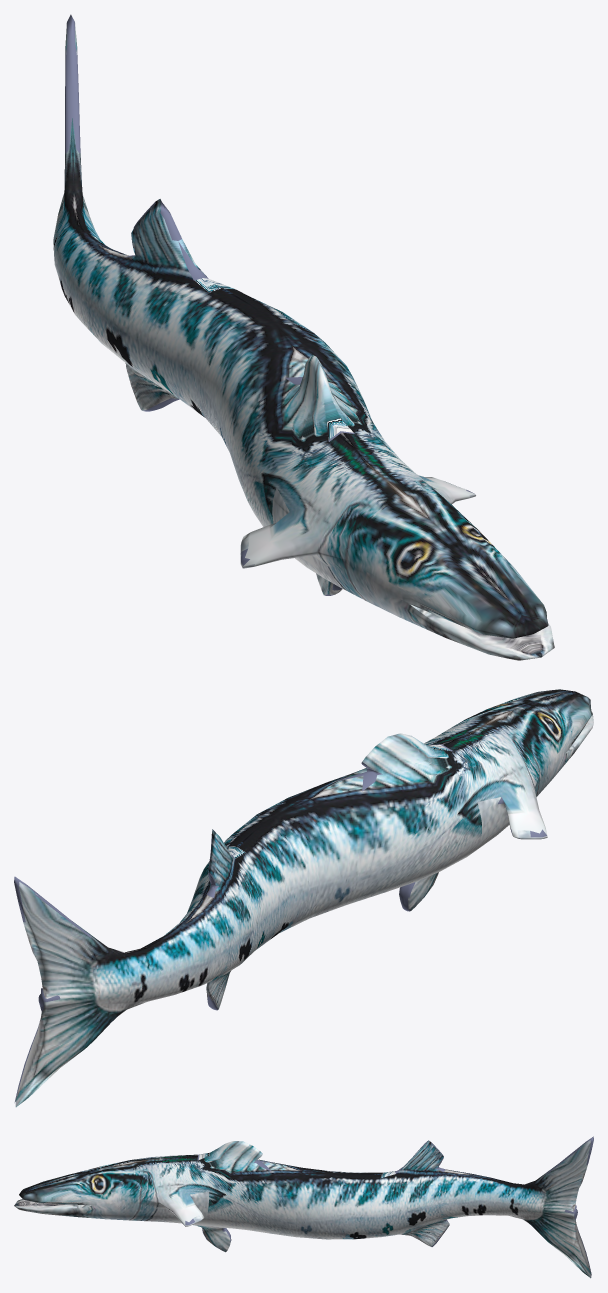
The model's file is Barracuda.fbx.
The picture shows the model from 3 angles, top to bottom: view 1: azimuth 30°, elevation 25°; view 2: azimuth 150°, elevation 25°; view 3: azimuth 270°, elevation 25°; orthographic projection. The views are drawn at different scales.
Visible parts, largest first — view 1: Cube; view 2: Cube; view 3: Cube.
Part boxes in pixels (x1=…): Cube: x1=53, y1=14, x2=554, y2=660; Cube: x1=14, y1=689, x2=593, y2=1107; Cube: x1=14, y1=1136, x2=593, y2=1278.
Size of the model in its own units: 384 by 1605 by 435.
